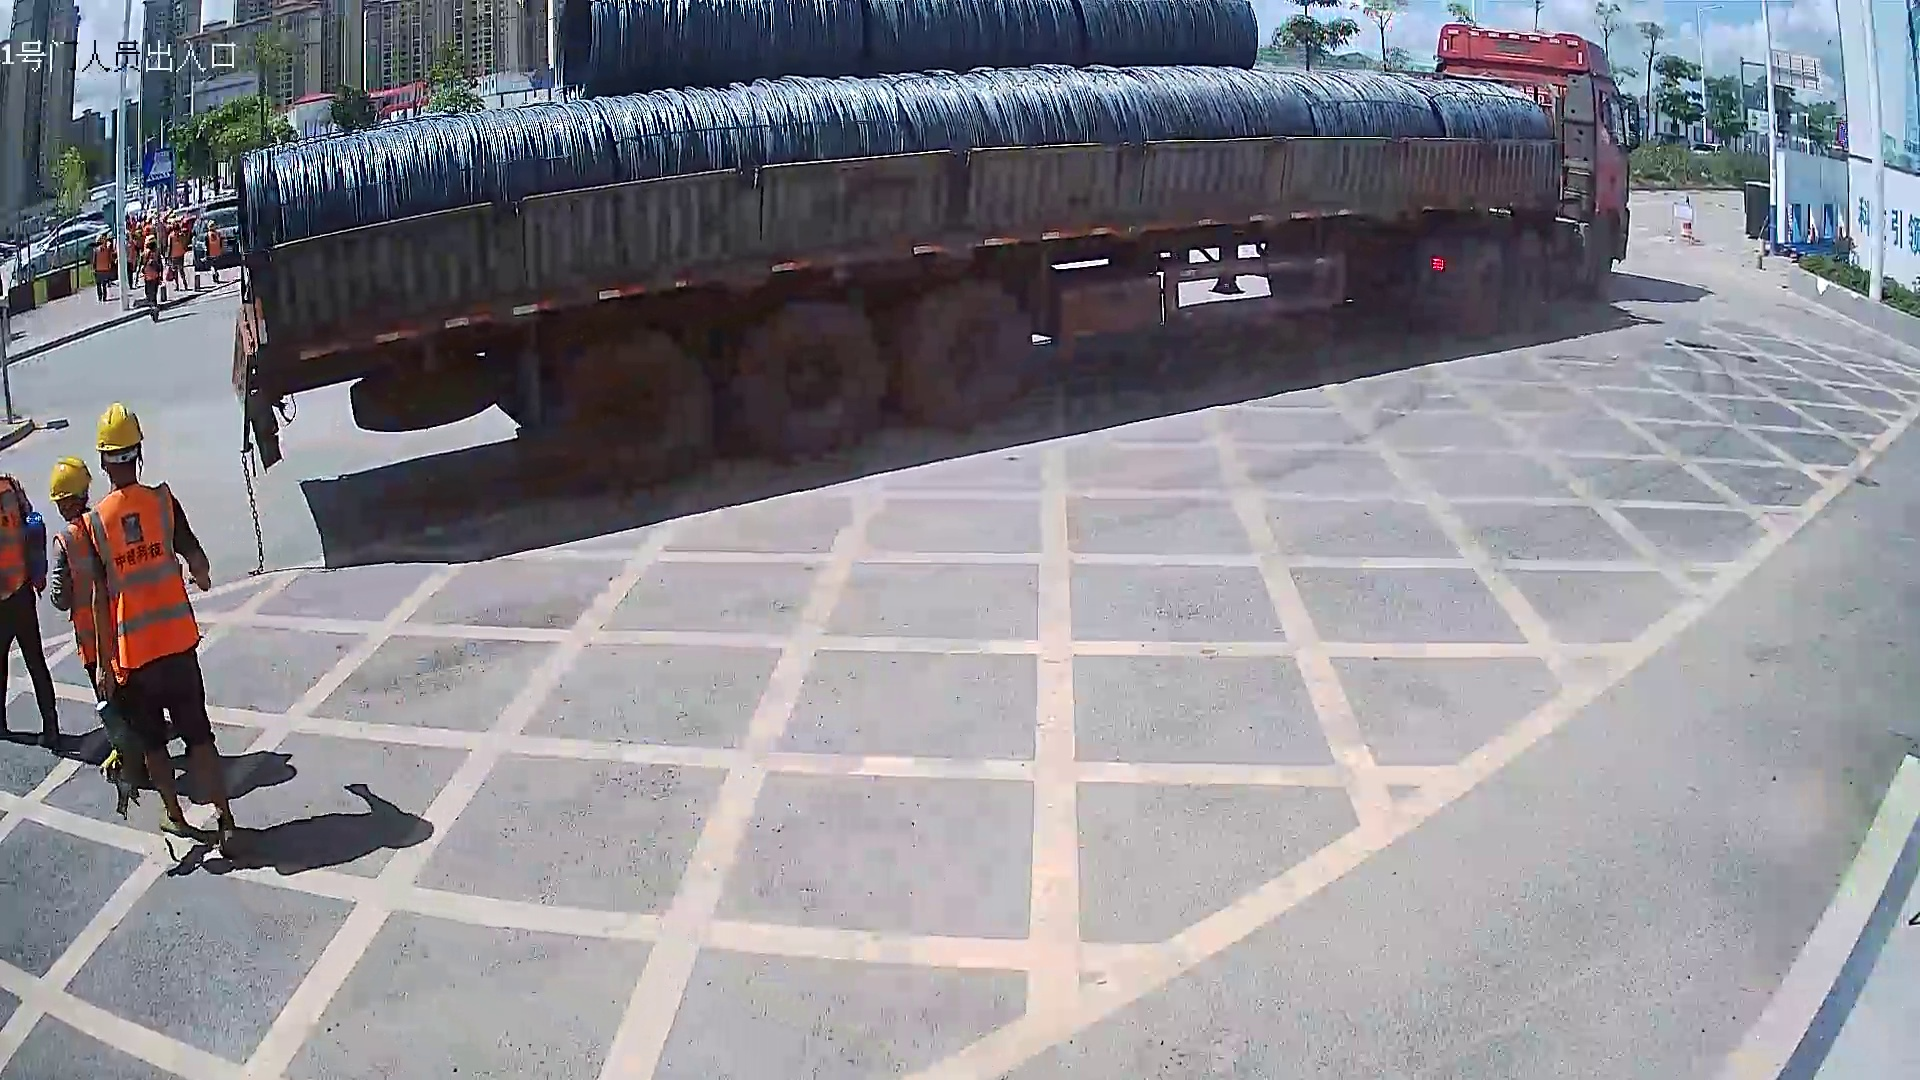person: (80, 401, 241, 859), (46, 456, 147, 788)
reflective_vest: (80, 478, 204, 672), (48, 511, 94, 673)
safety_helmet: (93, 400, 146, 488), (47, 455, 97, 523)
